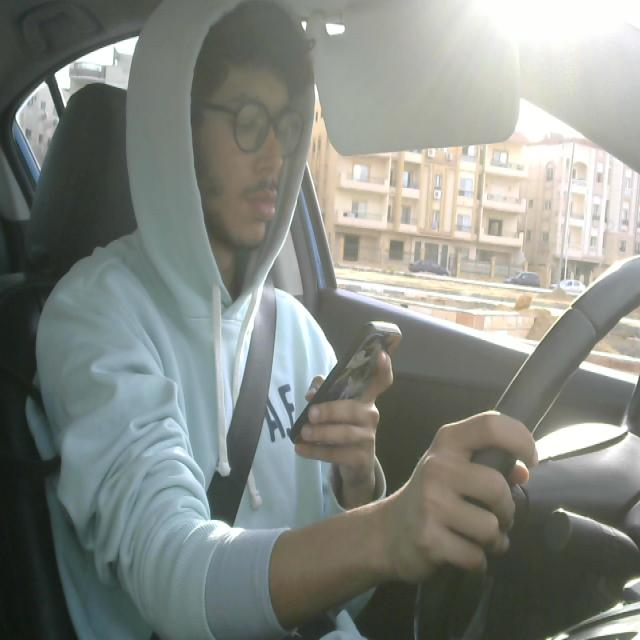mobile use: (287, 322, 407, 442)
